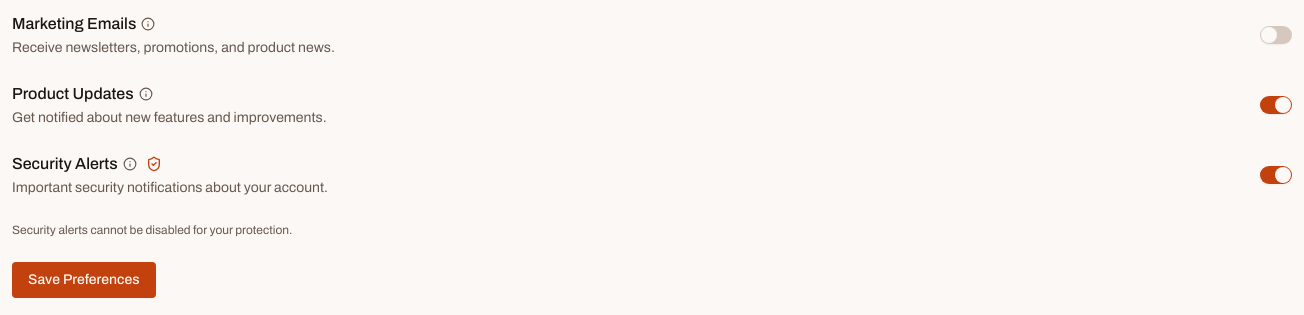
components/forms/preferences-form › form submission › should show loading state during submission
Click the button "Save Preferences" at (84, 280), box [12, 262, 156, 298]
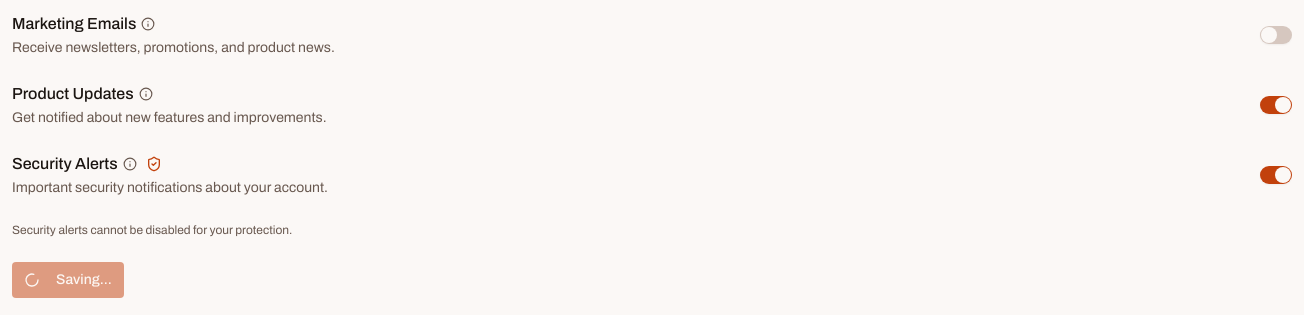
Now the button "Saving..." is shown, box [12, 262, 124, 298]
